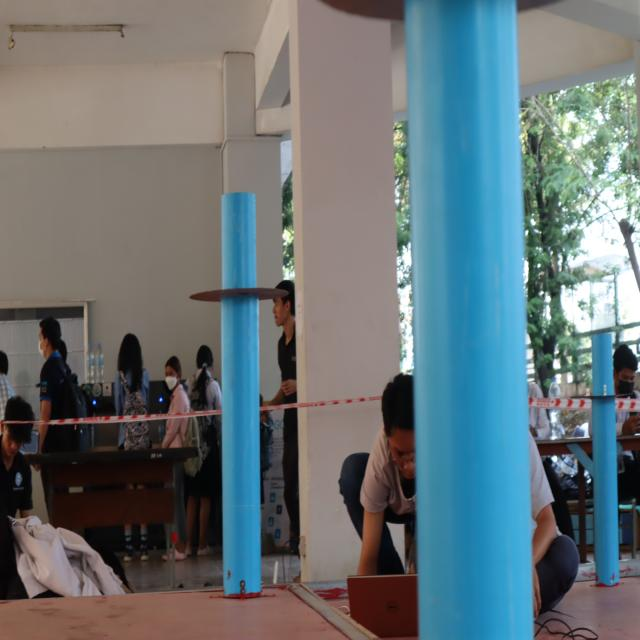pole: (188, 183, 290, 384)
